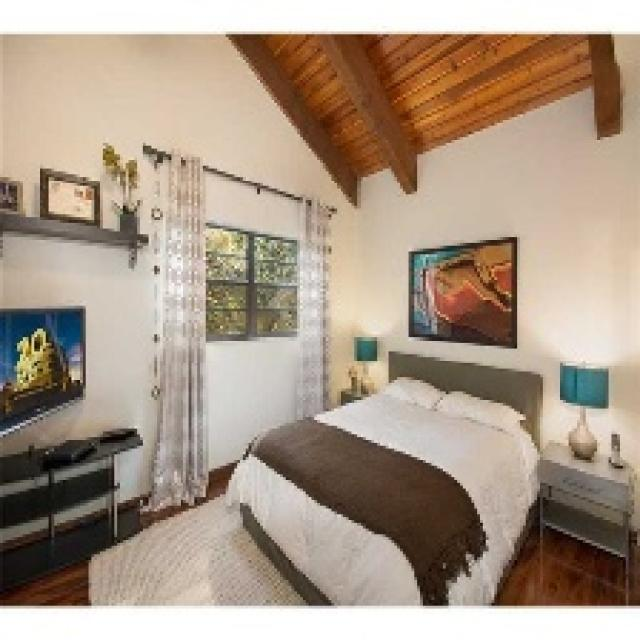Bed: (223, 348, 543, 603)
